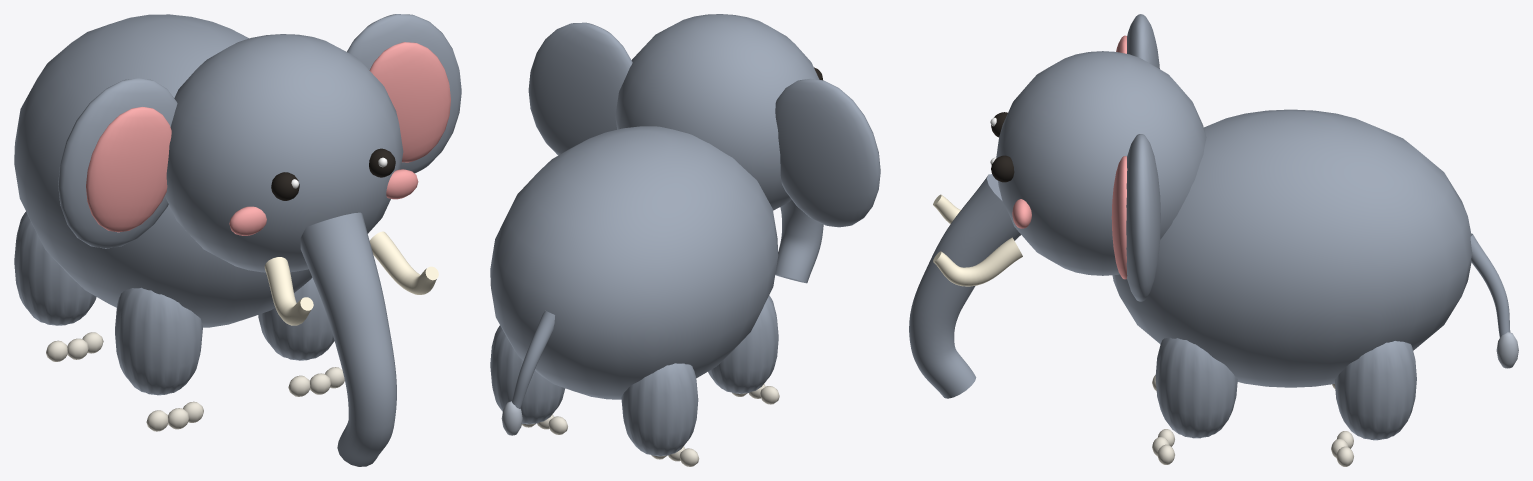
File: elephant.glb
3 renders of one model, left to right at view 1: azimuth 30°, elevation 25°; view 2: azimuth 150°, elevation 25°; view 3: azimuth 270°, elevation 25°, orthographic. The views are drawn at different scales.
Parts seen in each view (by area): view 1: skull, body, trunkmesh, earin-1, leg0, earmesh-1, earin1, leg2, earmesh1, leg1, tusk1, tusk-1 (+4 smaller); view 2: body, skull, earmesh-1, earmesh1, leg2, leg0, leg3, trunkmesh, tailmesh, tailtuft; view 3: body, skull, trunkmesh, leg1, leg3, earmesh1, tusk1, earin1, tailmesh, earmesh-1, tailtuft.
Boxes of the visible parts, x1,y1,x2,y2 form: skull: [165, 34, 403, 272]; body: [14, 14, 312, 327]; trunkmesh: [300, 212, 396, 466]; earin-1: [86, 107, 171, 232]; leg0: [115, 287, 202, 395]; earmesh-1: [58, 78, 177, 248]; earin1: [369, 42, 450, 162]; leg2: [14, 211, 96, 325]; earmesh1: [347, 14, 461, 173]; leg1: [258, 277, 334, 360]; tusk1: [369, 231, 438, 294]; tusk-1: [264, 257, 313, 325]; body: [490, 126, 778, 399]; skull: [615, 14, 819, 210]; earmesh-1: [775, 78, 880, 227]; earmesh1: [528, 22, 632, 155]; leg2: [621, 363, 698, 456]; leg0: [708, 295, 778, 393]; leg3: [490, 325, 565, 424]; trunkmesh: [775, 200, 823, 283]; tailmesh: [512, 310, 554, 408]; tailtuft: [501, 401, 522, 435]; body: [1112, 109, 1472, 387]; skull: [996, 51, 1206, 275]; trunkmesh: [909, 174, 1020, 398]; leg1: [1155, 337, 1237, 438]; leg3: [1334, 341, 1416, 440]; earmesh1: [1126, 134, 1160, 301]; tusk1: [933, 237, 1022, 286]; earin1: [1111, 156, 1127, 279]; tailmesh: [1470, 233, 1510, 337]; earmesh-1: [1127, 14, 1159, 68]; tailtuft: [1496, 332, 1518, 368].
Bounding box in the file's own units: 1.93 × 1.79 × 2.73.
